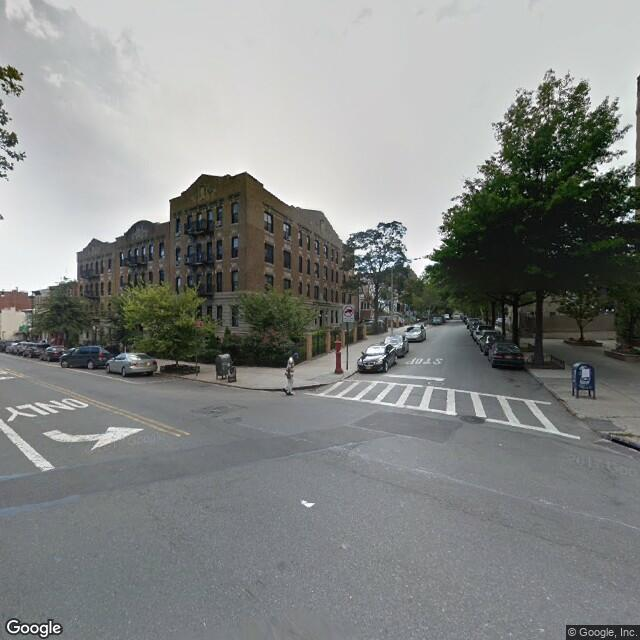litter: (299, 499, 316, 510)
